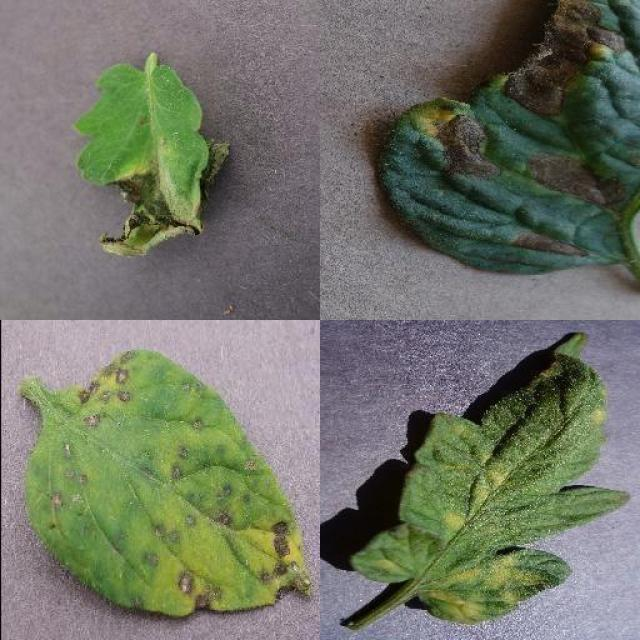Early Blight: (379, 1, 640, 279)
Late Blight: (76, 60, 232, 262)
Septoria: (24, 348, 314, 618)
